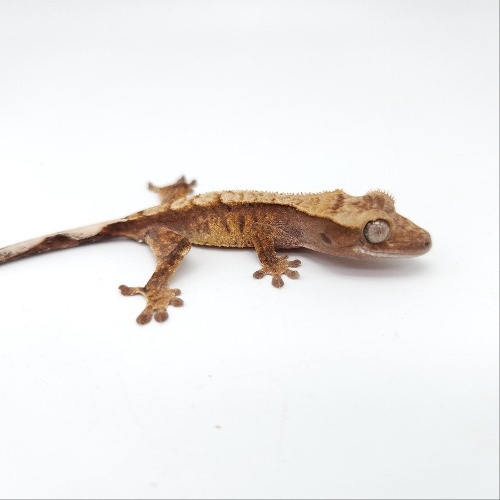analyzer_lateral: (122, 205, 316, 246)
